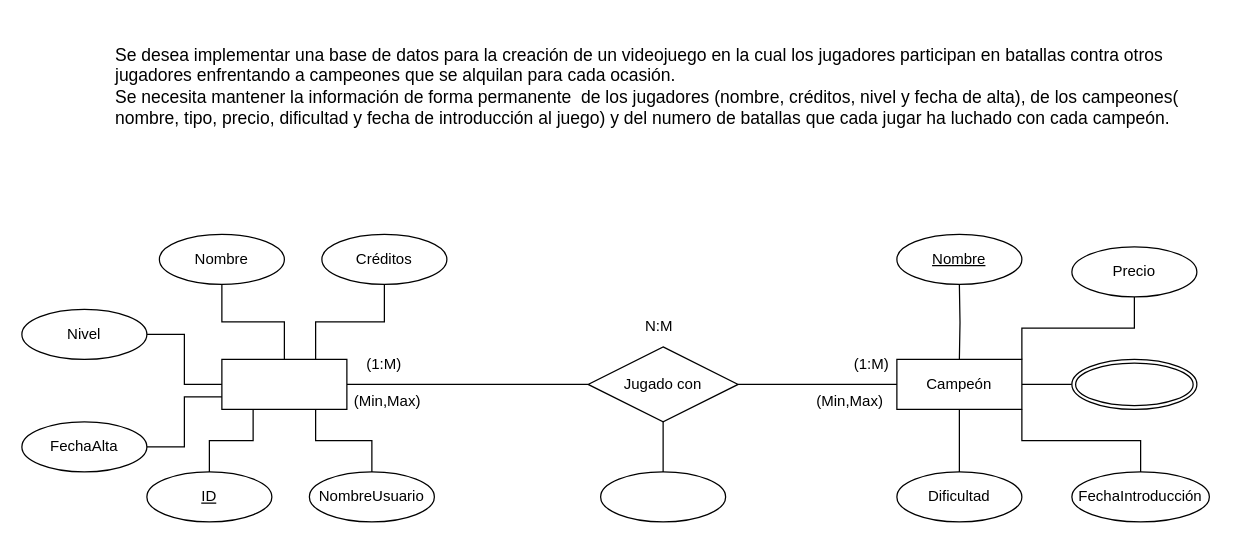
Some shapes in this 1235 by 544 pixel diagram are drawn without their labels. The shapes that lost their labels are listed below. From the top down, each one's centre as x and y in pixels, then its label:
the point at 284,383: Jugador
the point at 1134,383: Tipo
the point at 662,496: NúmeroBatallas
